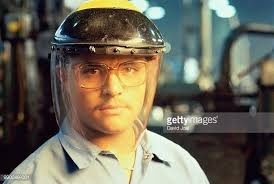helmet: (48, 2, 168, 53)
person with partial safety: (46, 3, 167, 180)
